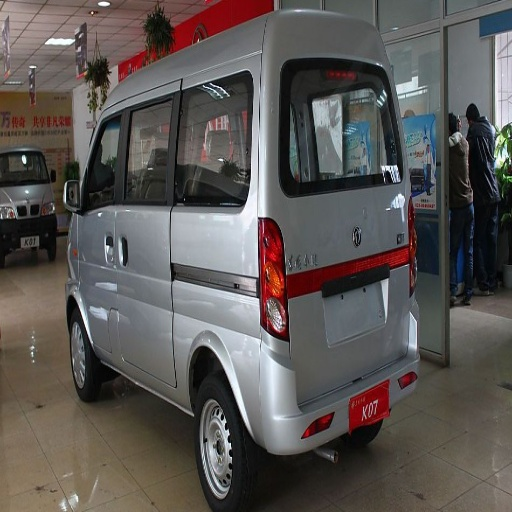back_left_light: (256, 235, 287, 339)
back_right_door: (82, 271, 118, 353)
trunk: (95, 208, 263, 399), (261, 188, 408, 399)
